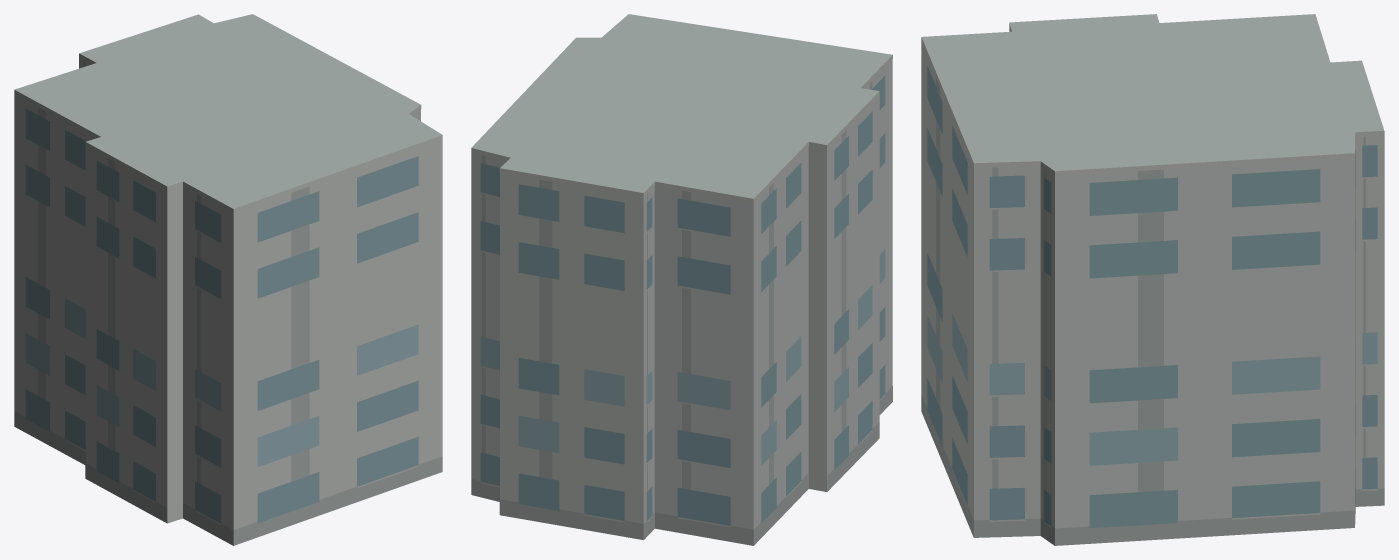
The model's file is survey-upis-32837115.glb.
3 views of the same model, side by side, from view 1: azimuth 30°, elevation 25°; view 2: azimuth 150°, elevation 25°; view 3: azimuth 270°, elevation 25° (orthographic). The views are drawn at different scales.
Parts seen in each view (by area): view 1: survey-upis-32837115.tmp; view 2: survey-upis-32837115.tmp; view 3: survey-upis-32837115.tmp.
Part boxes in pixels (box(x1,y1,x2,y2)): survey-upis-32837115.tmp: box(14, 14, 442, 545); survey-upis-32837115.tmp: box(471, 14, 892, 545); survey-upis-32837115.tmp: box(921, 14, 1384, 545).
Size of the model in its own units: 16.99 by 18.88 by 21.15.
